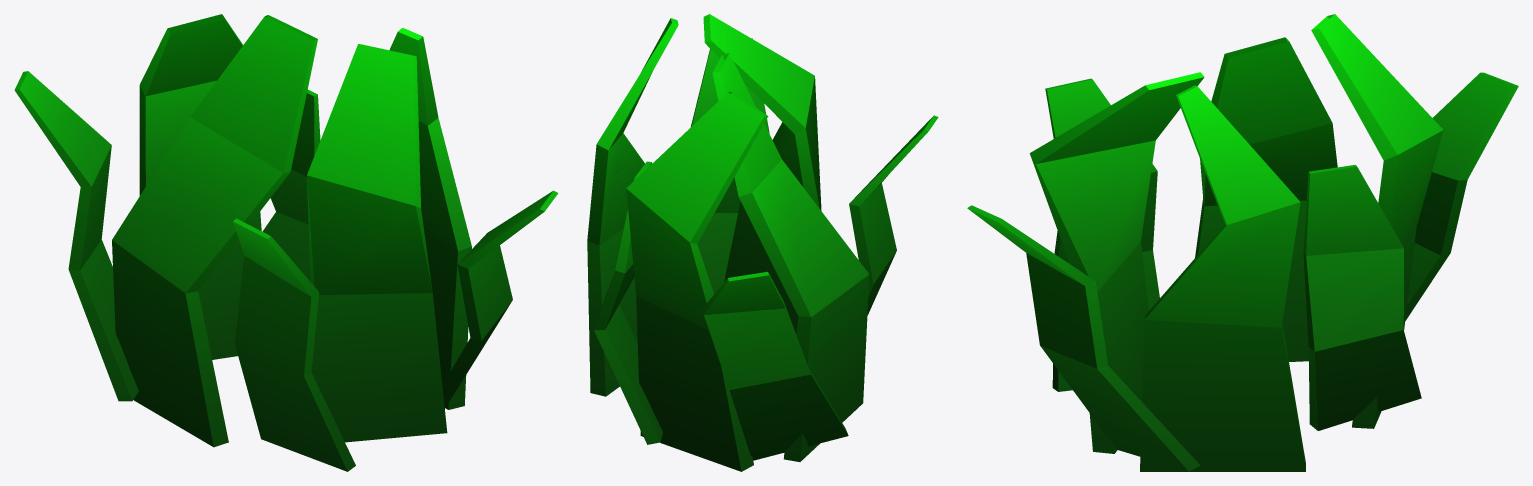
Rendered from SuigMyVoel.fbx.
The picture shows the model from 3 angles, left to right: view 1: azimuth 30°, elevation 25°; view 2: azimuth 150°, elevation 25°; view 3: azimuth 270°, elevation 25°; orthographic projection. The views are drawn at different scales.
Parts seen in each view (by area): view 1: Grass; view 2: Grass; view 3: Grass.
Part boxes in pixels (x1,y1,x2,y2): Grass: (14,14,558,471); Grass: (587,14,938,471); Grass: (967,14,1518,471).
Size of the model in its own units: 20.08 by 22.81 by 30.7.
